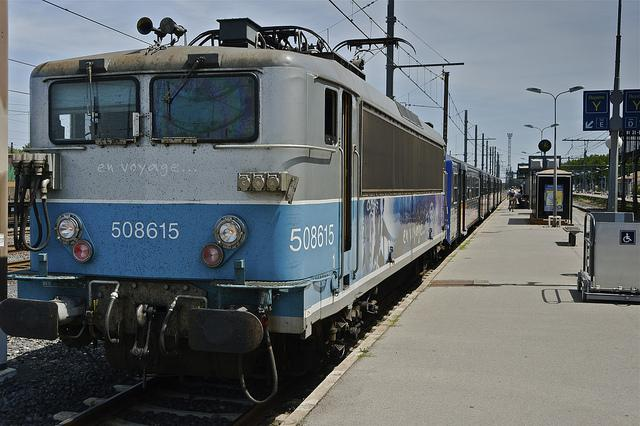Train: (2, 19, 506, 406)
